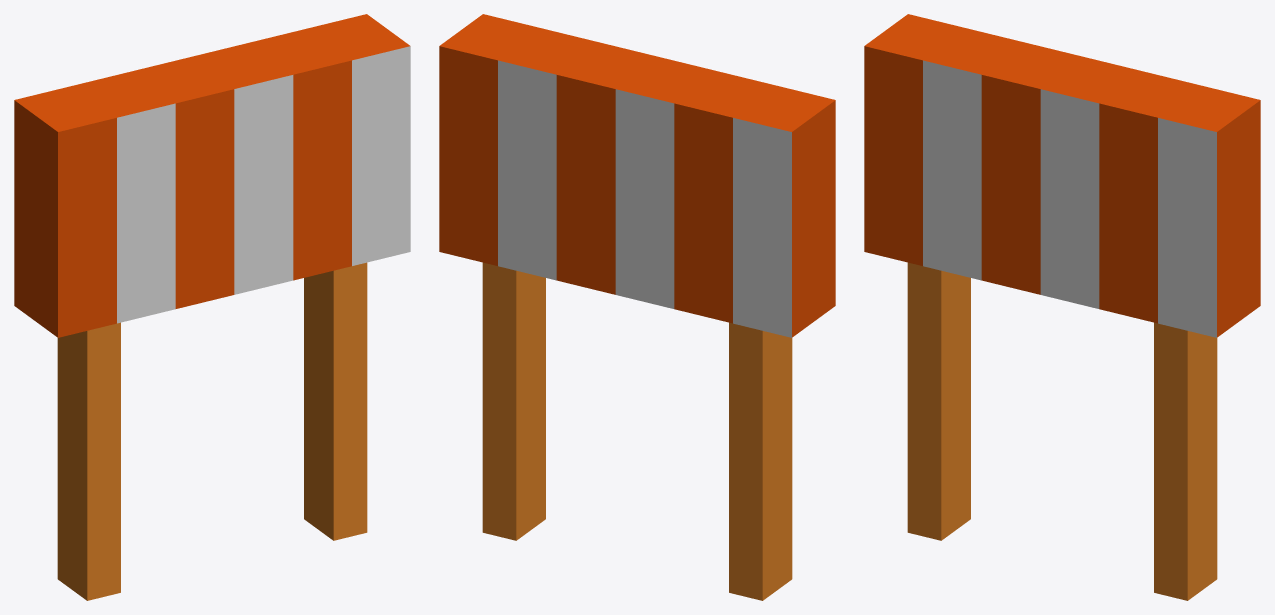
The model's file is Caution Sign.fbx.
3 renders of one model, left to right at view 1: azimuth 30°, elevation 25°; view 2: azimuth 150°, elevation 25°; view 3: azimuth 330°, elevation 25°, orthographic.
Parts seen in each view (by area): view 1: Cube.001, Cube; view 2: Cube.001, Cube; view 3: Cube.001, Cube.
Boxes of the visible parts, left/top/right/bottom form: Cube.001: left=14, top=14, right=410, bottom=337; Cube: left=57, top=262, right=367, bottom=600; Cube.001: left=439, top=14, right=835, bottom=337; Cube: left=482, top=262, right=792, bottom=600; Cube.001: left=864, top=14, right=1260, bottom=337; Cube: left=907, top=262, right=1217, bottom=600.
Size of the model in its own units: 200 by 262 by 43.08.
